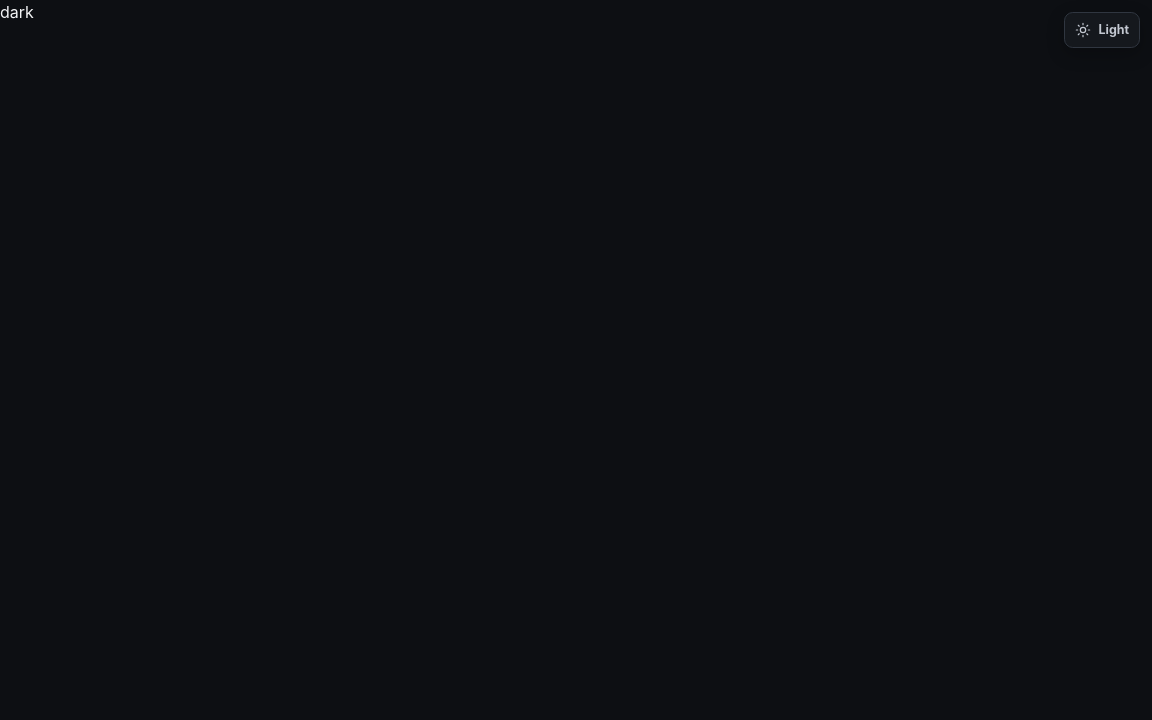
Test: ThemeToggle / ThemeContext (theme restoration) › toggles back from dark to light
The image size is (1152, 720).
Click the button with aria-label "switch to light mode". click: click(1102, 30)
box: [1064,12,1140,48]
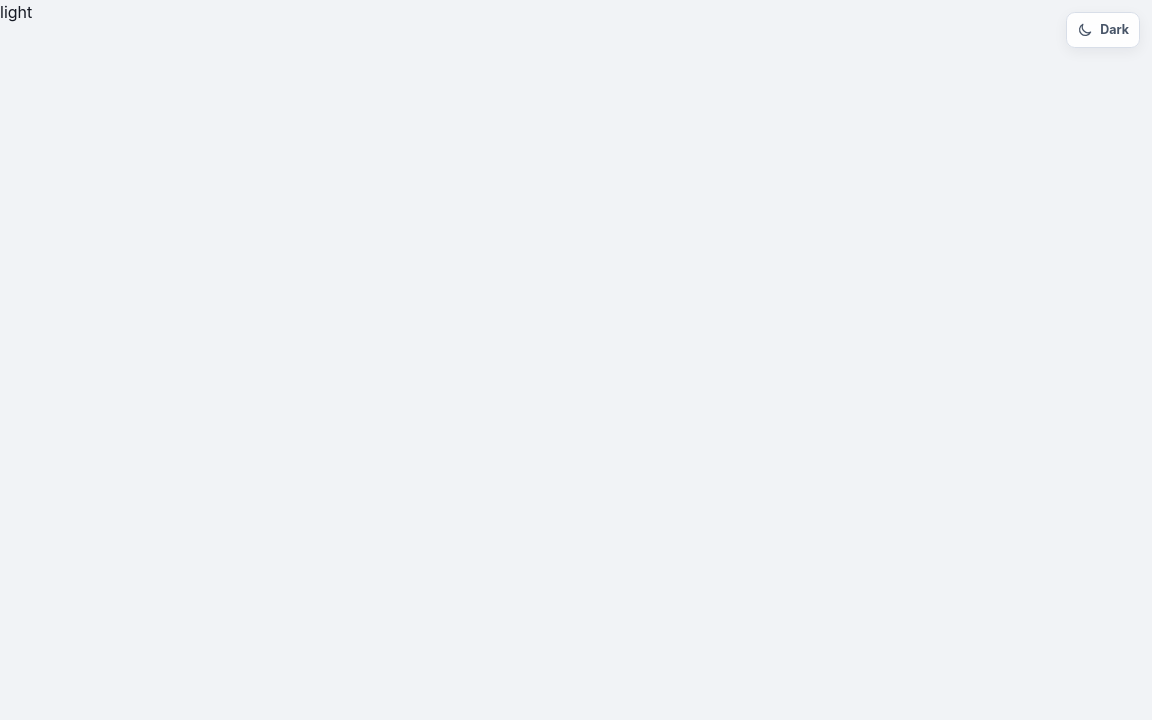
Check: the text with test id "theme" reads "light", box [0,2,32,22]
